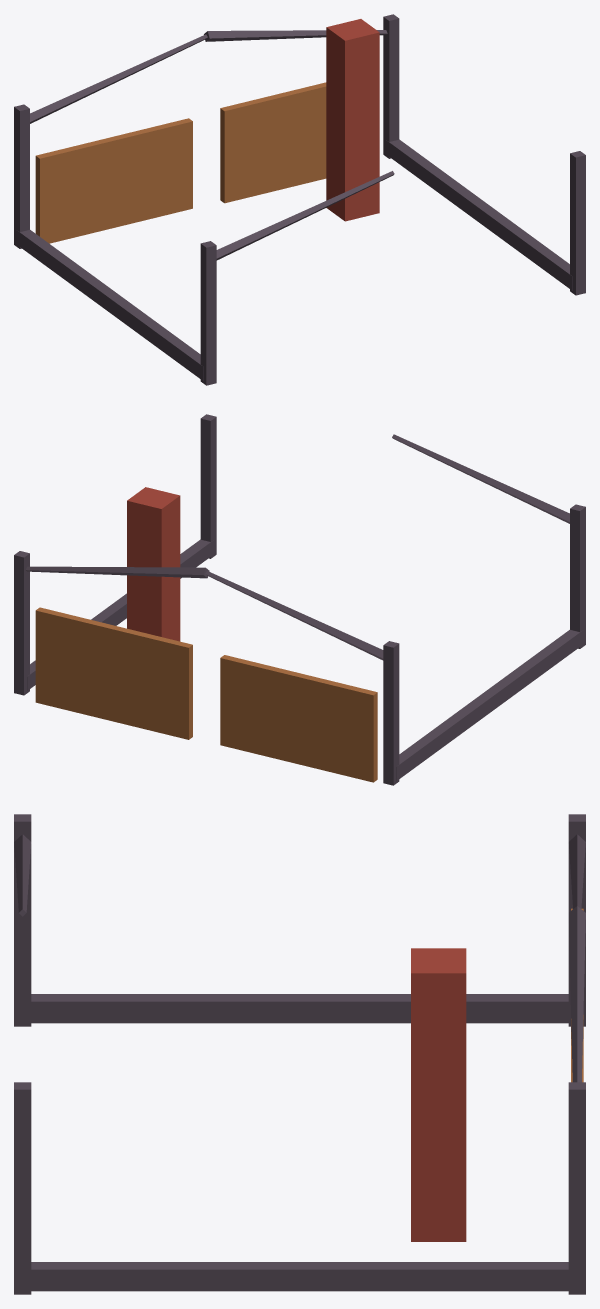
Rendered from bld.farm-house-ruin.lod2.glb.
3 views of the same model, one above another, from view 1: azimuth 30°, elevation 25°; view 2: azimuth 150°, elevation 25°; view 3: azimuth 270°, elevation 25° (orthographic). The views are drawn at different scales.
Visible parts, largest first — view 1: body; view 2: body; view 3: body.
Boxes of the visible parts, x1,y1,x2,y2 form: body: [14, 14, 585, 385]; body: [14, 414, 585, 785]; body: [14, 814, 585, 1294].
Size of the model in its own units: 8.23 by 3.84 by 7.22.
